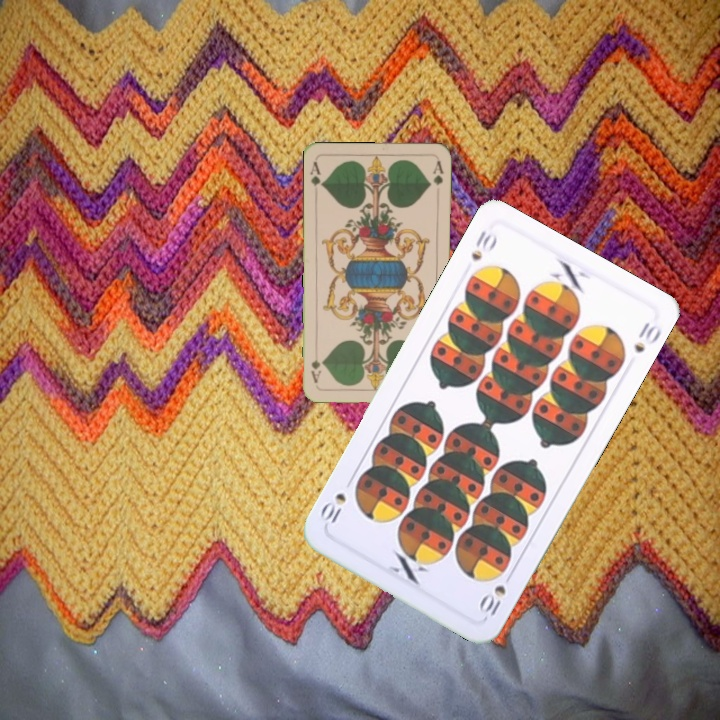GA: (306, 157, 326, 189)
S10: (475, 567, 516, 619), (467, 226, 500, 264)
